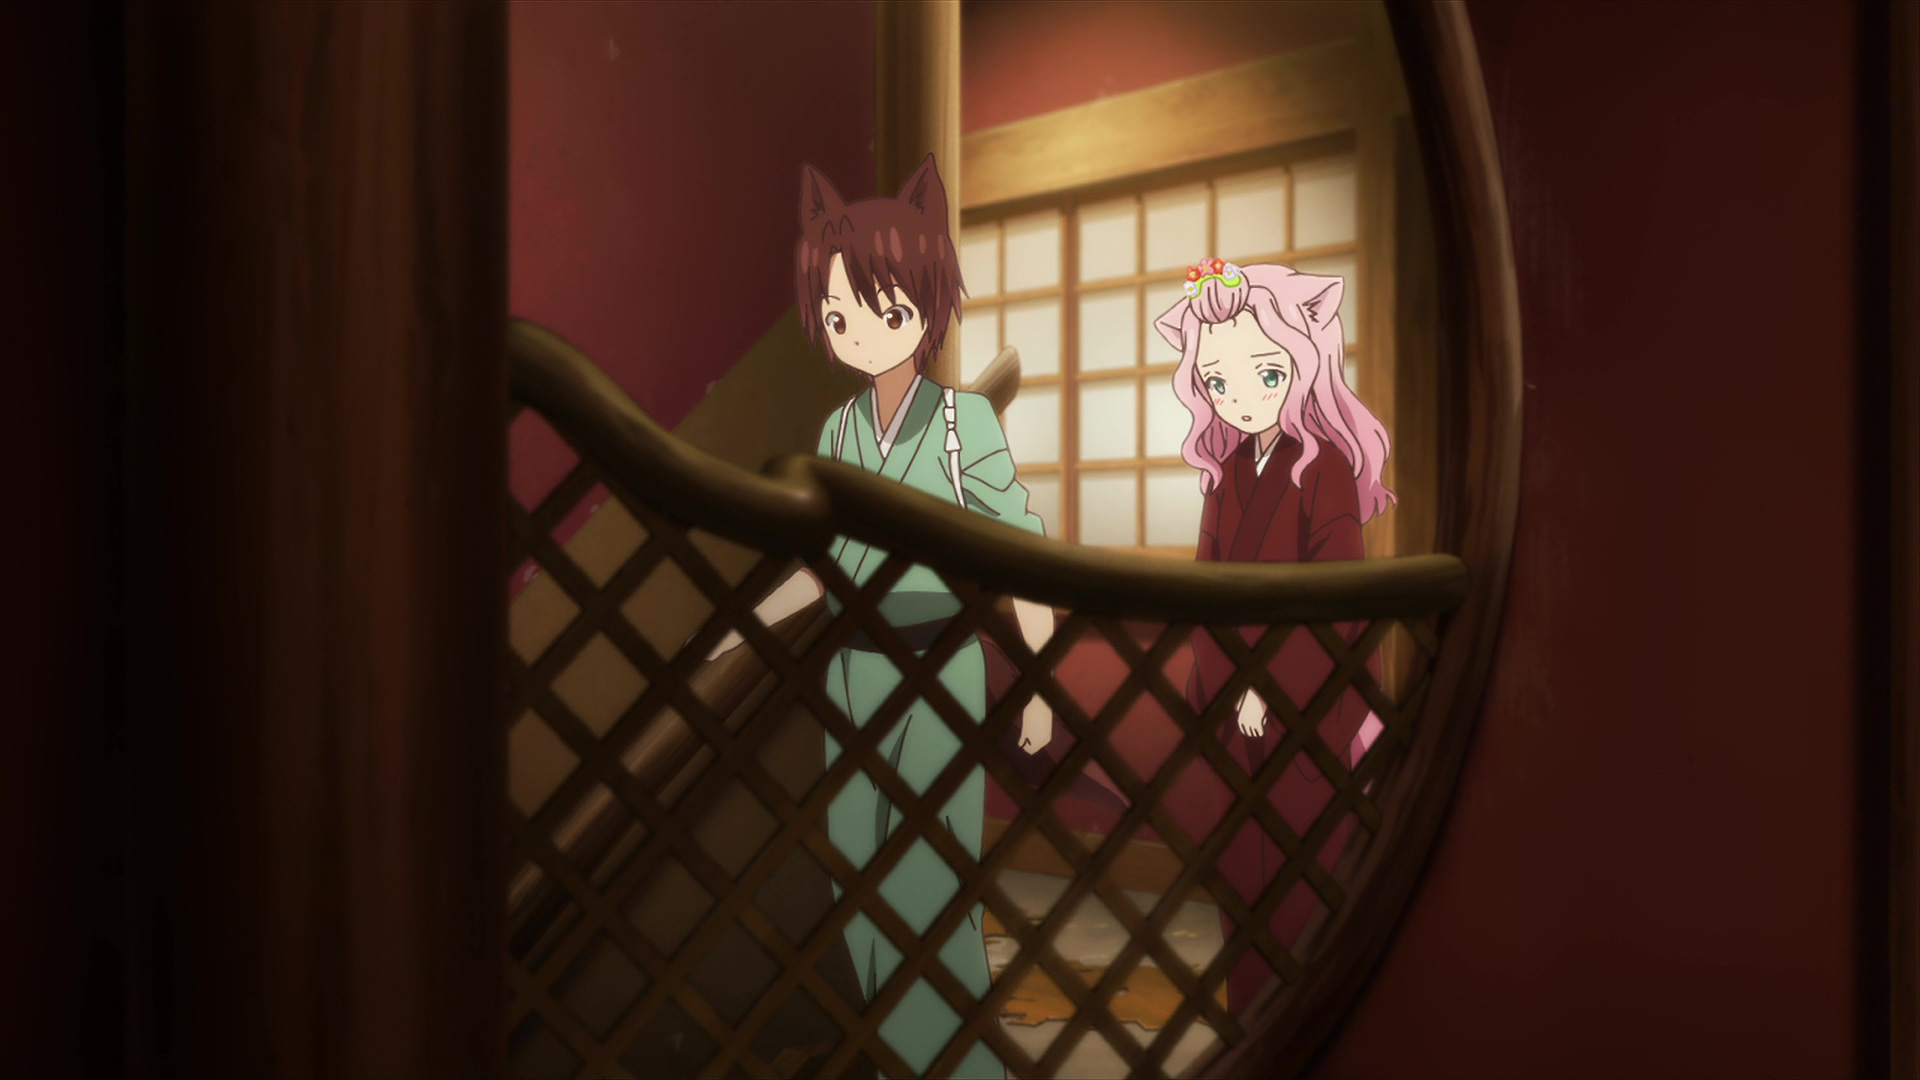枣: (702, 156, 1054, 1080)
莲: (1153, 261, 1400, 1031)
